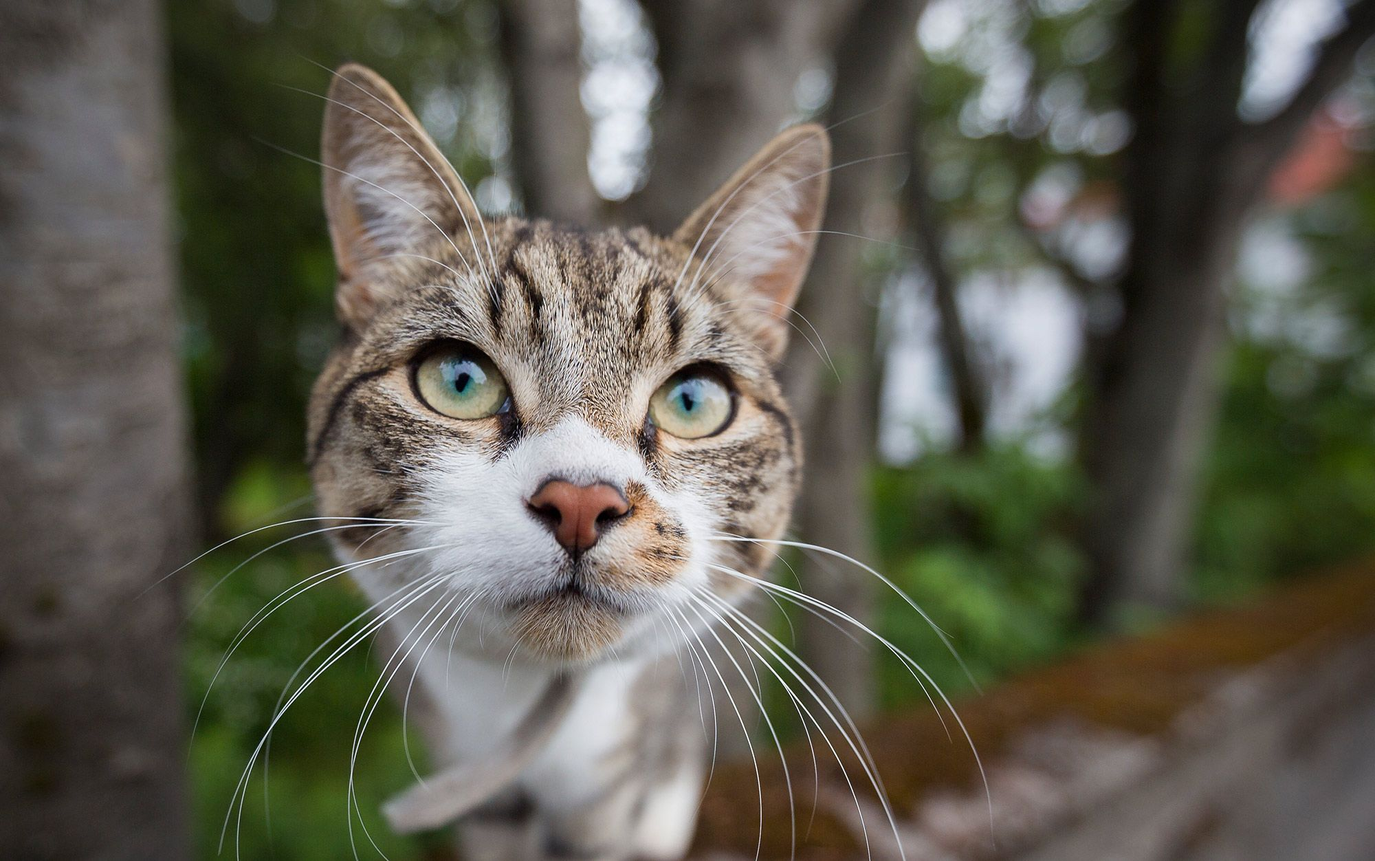Cat: (235, 52, 910, 855)
